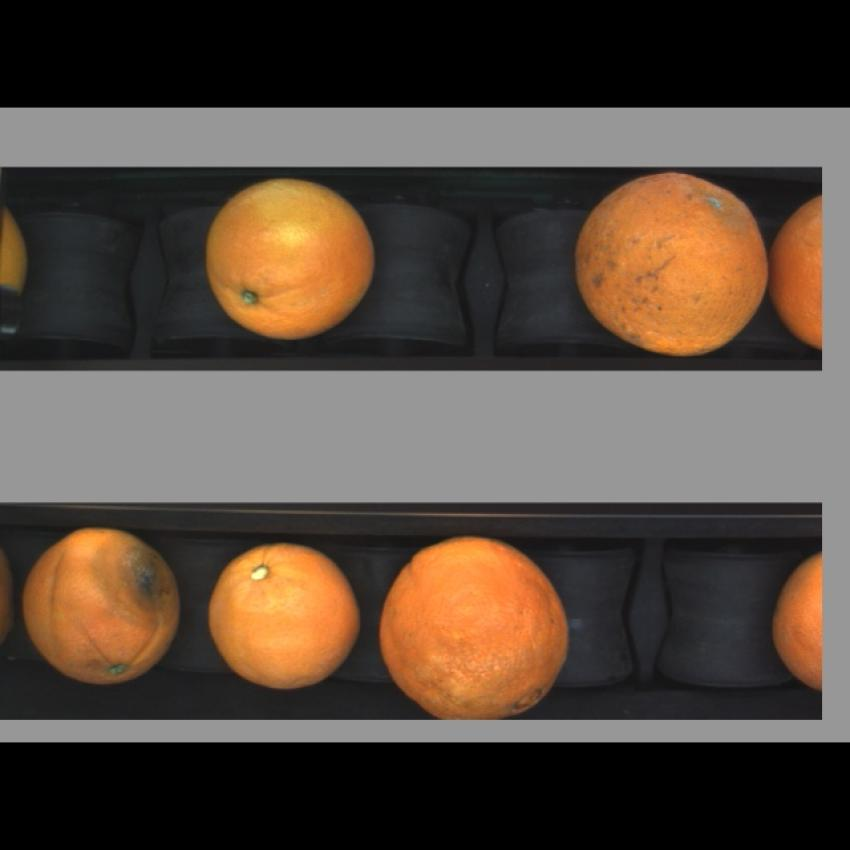Buen estado: (199, 182, 388, 344)
Mal estado: (571, 168, 769, 364), (377, 529, 580, 717), (19, 524, 182, 691), (207, 538, 362, 695), (770, 190, 824, 350), (767, 547, 821, 694)
